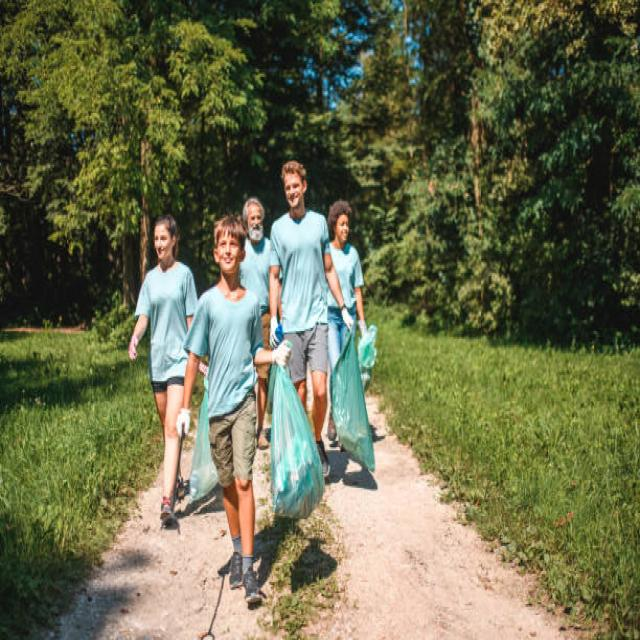trash: (264, 331, 345, 525), (325, 333, 401, 494), (178, 366, 220, 506), (357, 326, 391, 400)
